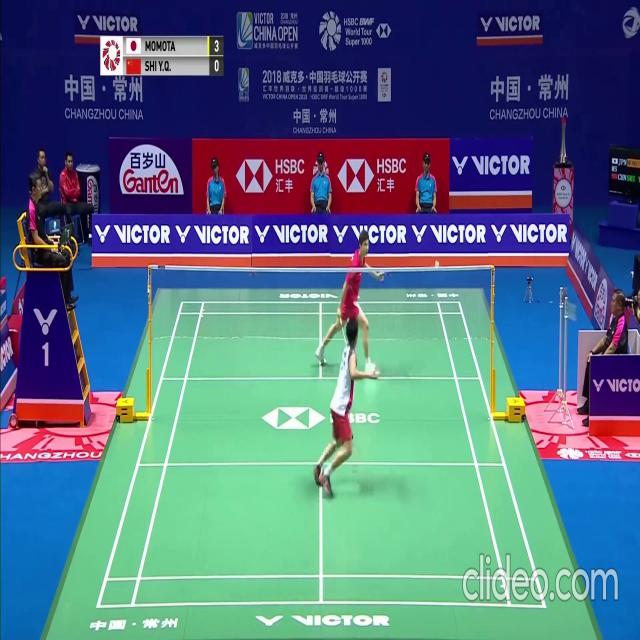Shuttlecock: (435, 261, 439, 269)
